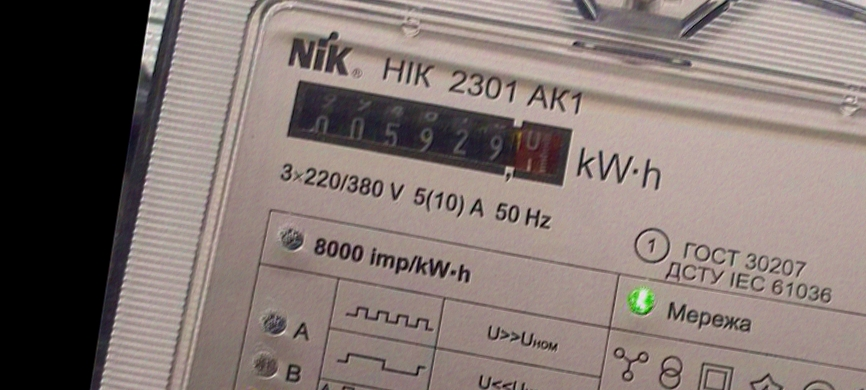0: (344, 114, 367, 144), (308, 110, 332, 136), (521, 128, 543, 154)
2: (447, 125, 471, 160)
5: (378, 119, 401, 150)
9: (482, 131, 506, 166), (411, 123, 436, 156), (317, 91, 337, 111)
screen: (276, 74, 580, 198)
